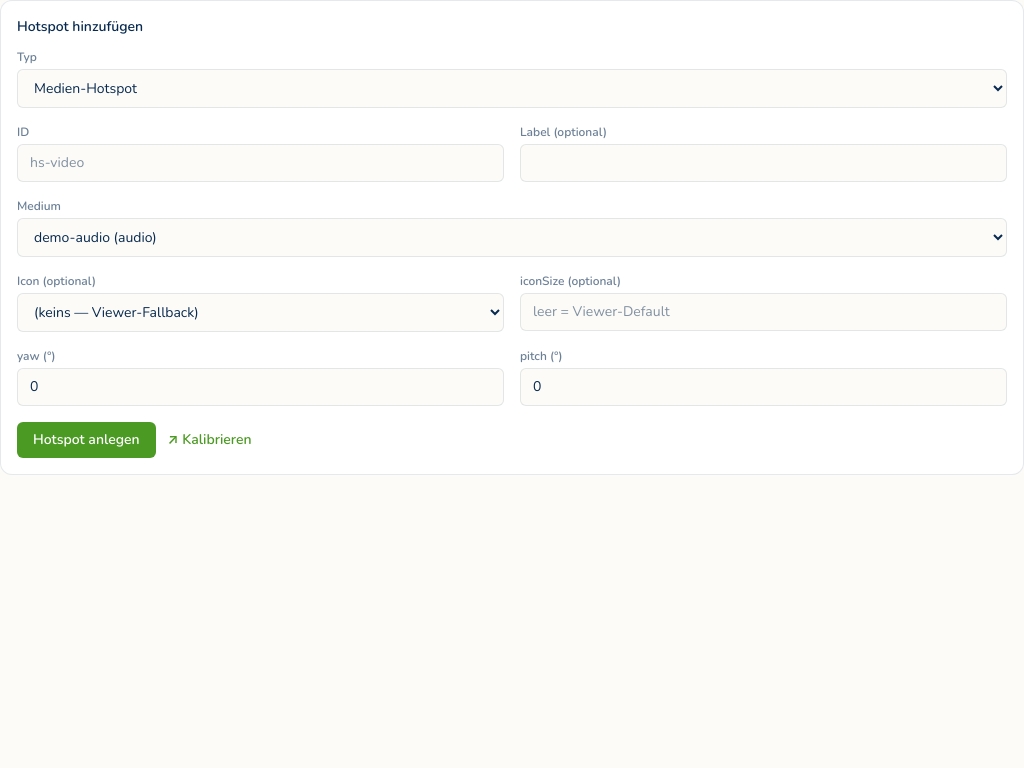
Scenario: StationHotspotAddForm › Fehler vom Server werden angezeigt
Type "hs-text" into the field labelled "ID" at (260, 163), box [17,144,504,182]
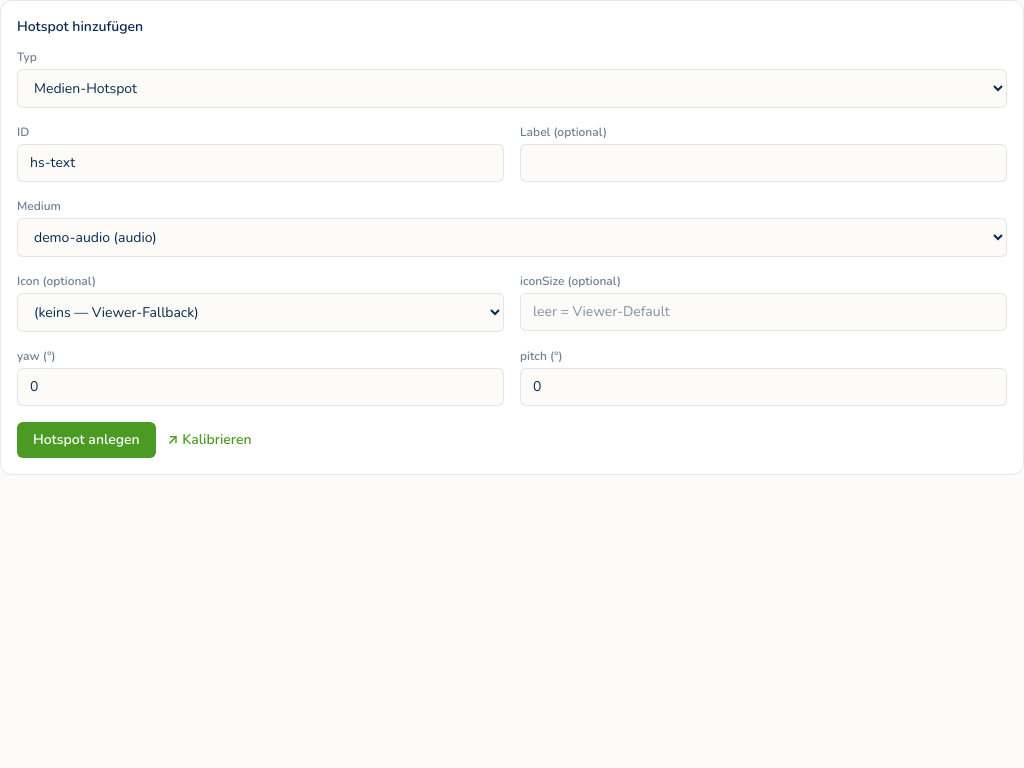
Click the button "Hotspot anlegen" at (86, 440), box [17,422,156,458]
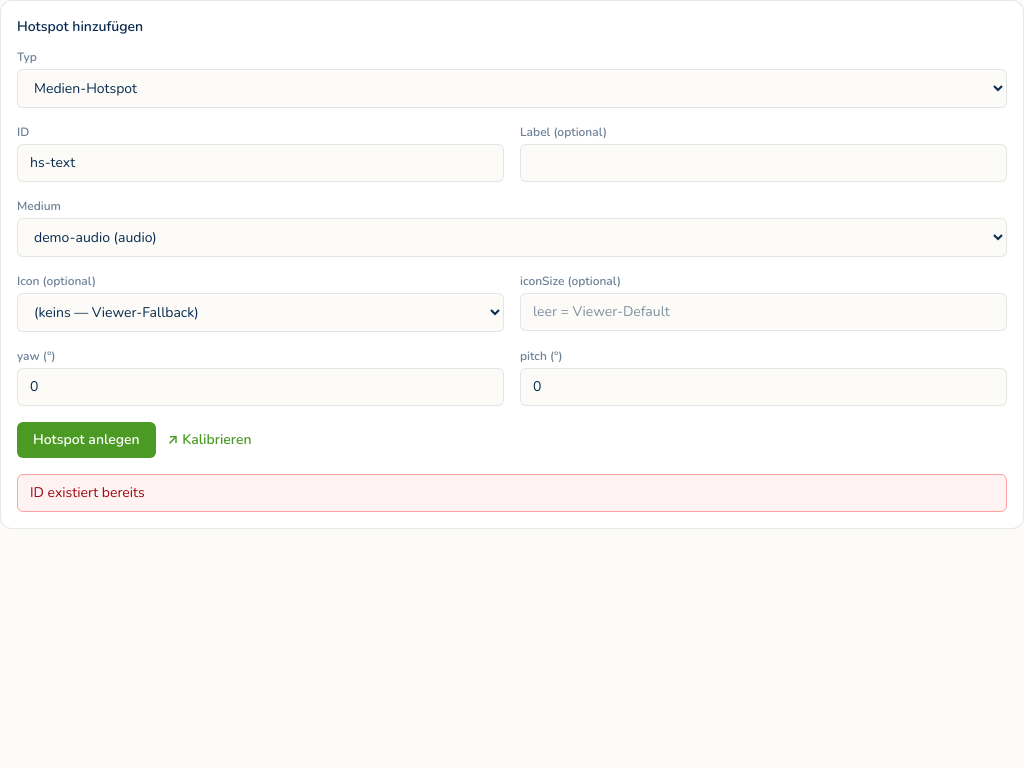
Expected: the message reads "ID existiert bereits", [30,483,145,502]
